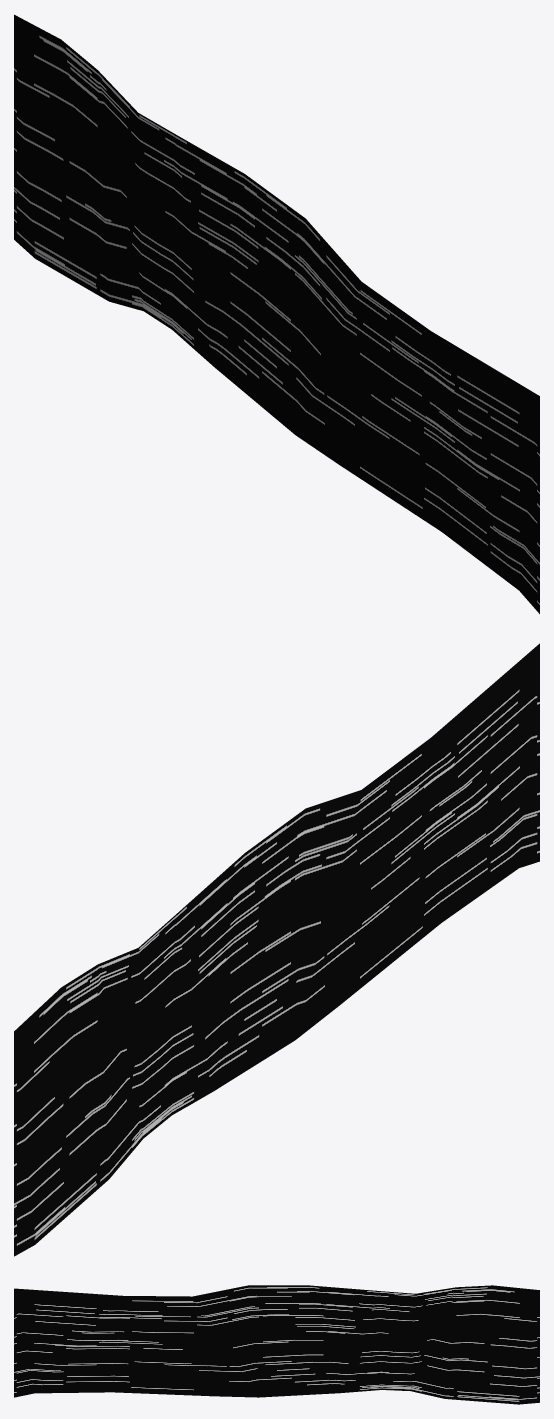
The model's file is rivermesh.obj.
3 renders of one model, top to bottom at view 1: azimuth 30°, elevation 25°; view 2: azimuth 150°, elevation 25°; view 3: azimuth 270°, elevation 25°, orthographic. The views are drawn at different scales.
Parts seen in each view (by area): view 1: Plane.001; view 2: Plane.001; view 3: Plane.001.
Boxes of the visible parts, left/top/right/bottom form: Plane.001: left=14, top=14, right=539, bottom=613; Plane.001: left=14, top=643, right=539, bottom=1256; Plane.001: left=14, top=1285, right=539, bottom=1404.
Size of the model in its own units: 0 by 3.2 by 12.8.
